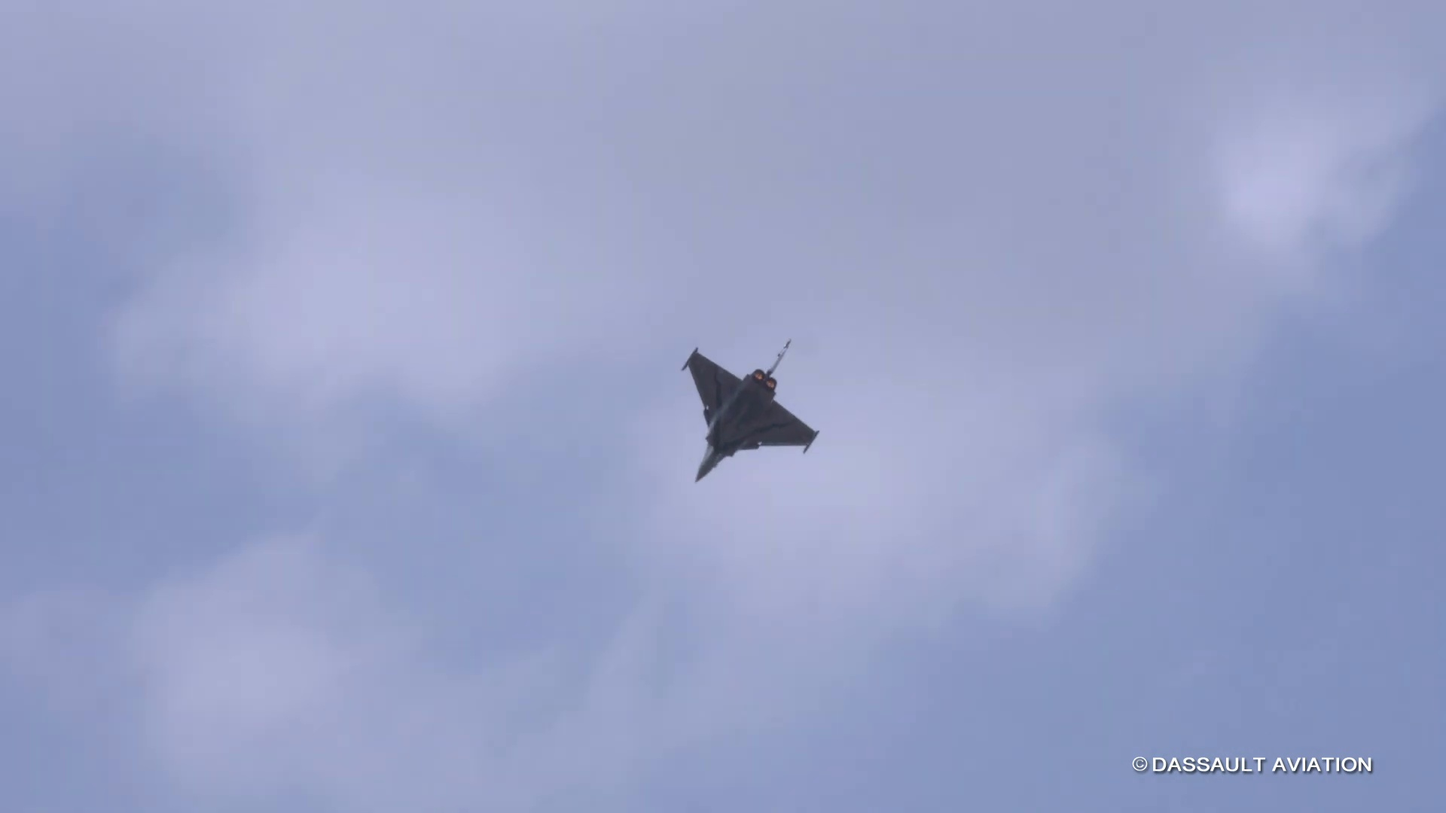Rafale: (678, 333, 823, 487)
